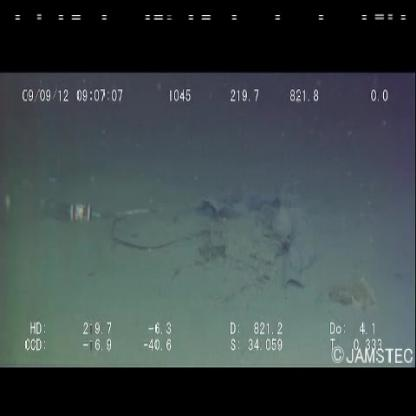Rác: (42, 193, 118, 235)
